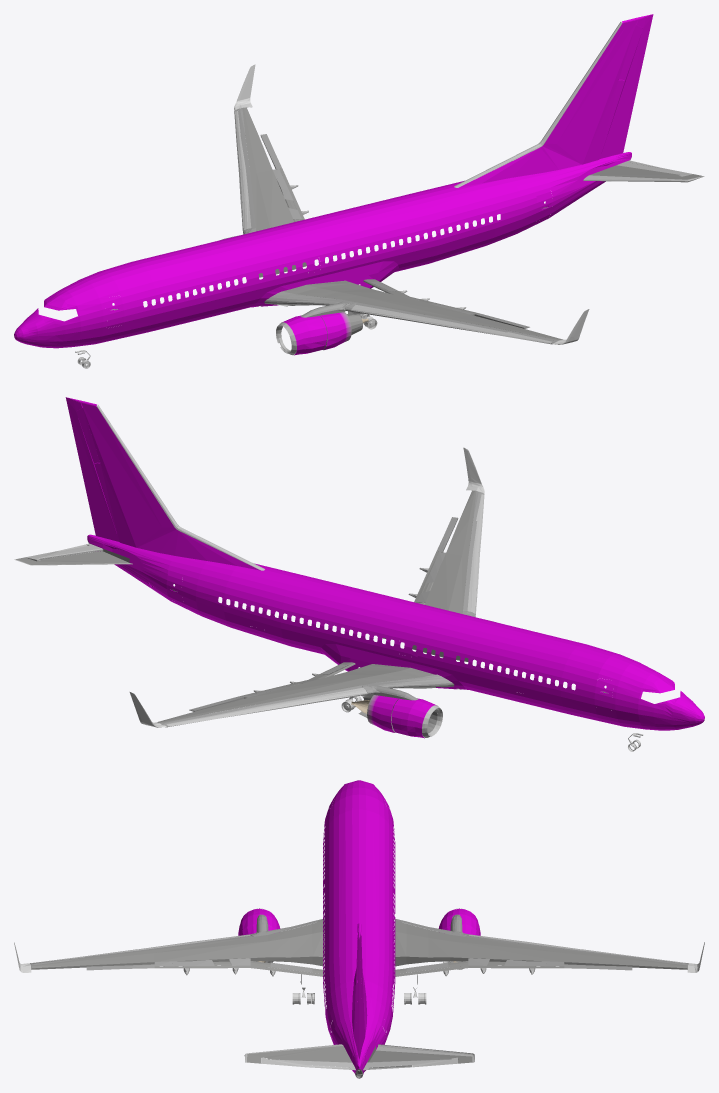
File: b737.body.glb
The picture shows the model from 3 angles, top to bottom: view 1: azimuth 30°, elevation 25°; view 2: azimuth 150°, elevation 25°; view 3: azimuth 270°, elevation 25°; orthographic projection. The views are drawn at different scales.
Parts seen in each view (by area): view 1: body; view 2: body; view 3: body.
Part boxes in pixels (bbox=[...]): body: bbox=[14, 14, 704, 368]; body: bbox=[14, 397, 704, 751]; body: bbox=[14, 780, 704, 1078].
Size of the model in its own units: 39.42 by 12.72 by 35.69.
